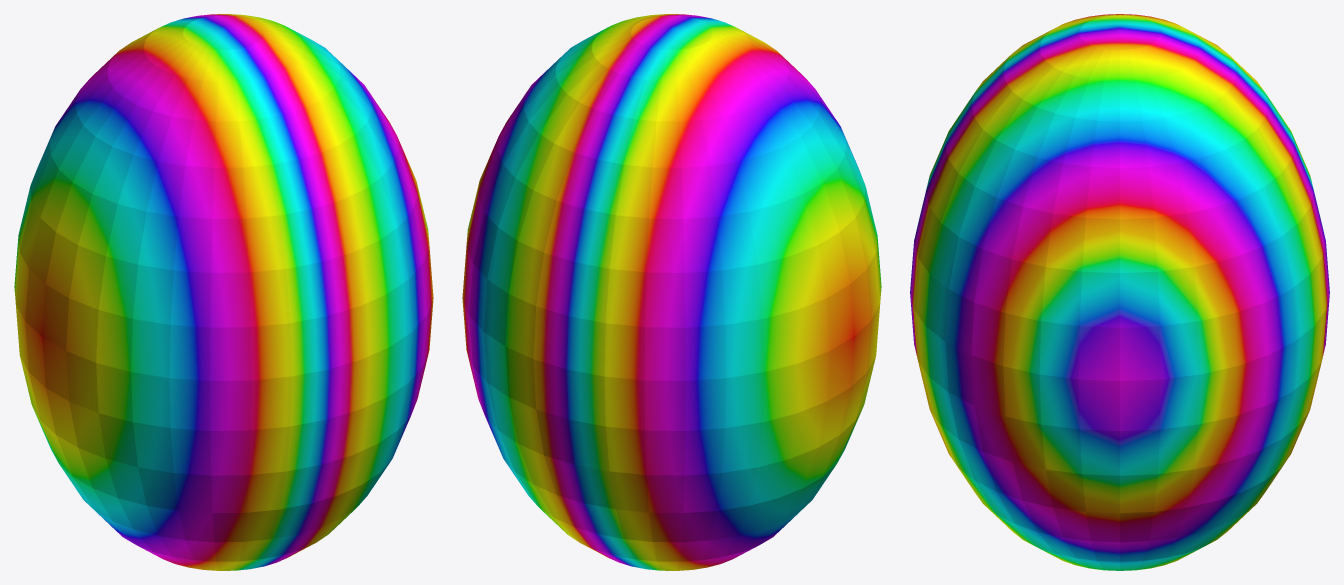
Rendered from Rainbow123456789.obj.
The picture shows the model from 3 angles, left to right: view 1: azimuth 30°, elevation 25°; view 2: azimuth 150°, elevation 25°; view 3: azimuth 270°, elevation 25°; orthographic projection.
Parts seen in each view (by area): view 1: 球; view 2: 球; view 3: 球.
Part boxes in pixels (box(x1,y1,x2,y2)): 球: box(14, 14, 433, 570); 球: box(462, 14, 881, 570); 球: box(910, 14, 1329, 570).
Bounding box in the file's own units: 980 × 1363 × 980.
Materials: 1 (1 with a texture image).
